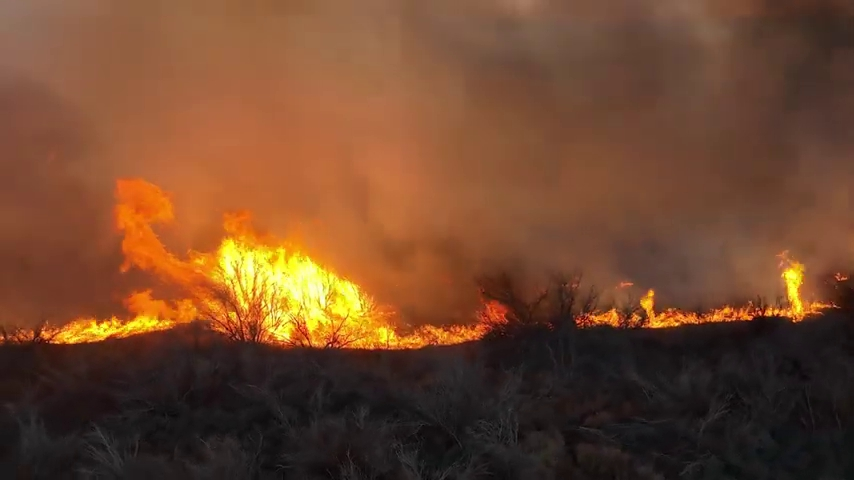forest_fire: (38, 179, 506, 348), (577, 252, 830, 326), (625, 282, 629, 284)
